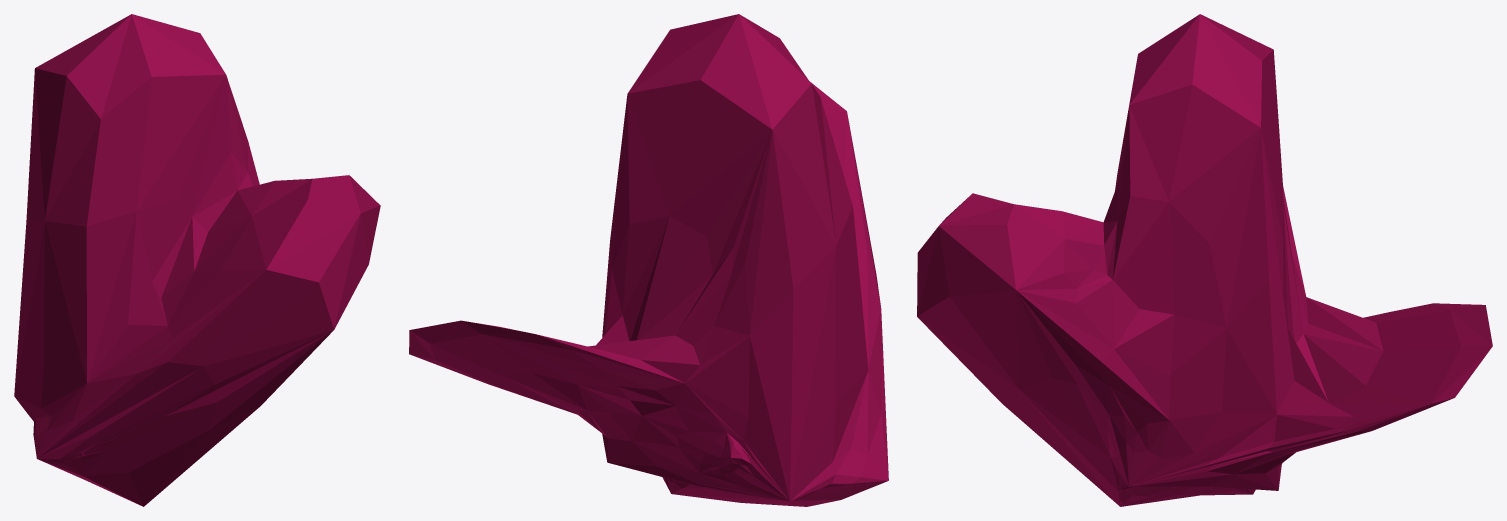
The picture shows the model from 3 angles, left to right: view 1: azimuth 30°, elevation 25°; view 2: azimuth 150°, elevation 25°; view 3: azimuth 270°, elevation 25°; orthographic projection. The views are drawn at different scales.
Visible parts, largest first — view 1: 078_Cube.321; view 2: 078_Cube.321; view 3: 078_Cube.321.
Part boxes in pixels (x1,y1,x2,y2): 078_Cube.321: (14, 14, 380, 506); 078_Cube.321: (409, 14, 888, 506); 078_Cube.321: (917, 14, 1492, 506).
Size of the model in its own units: 9.33 by 14.02 by 14.46.
